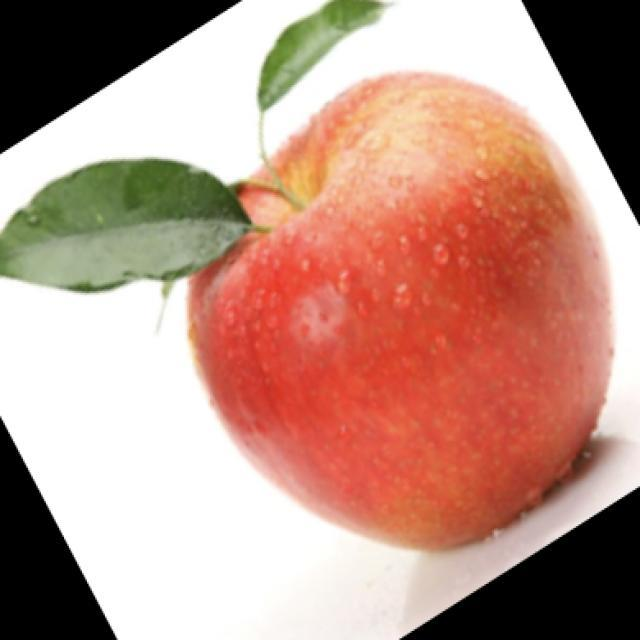Fresh Apple: (188, 75, 624, 565)
